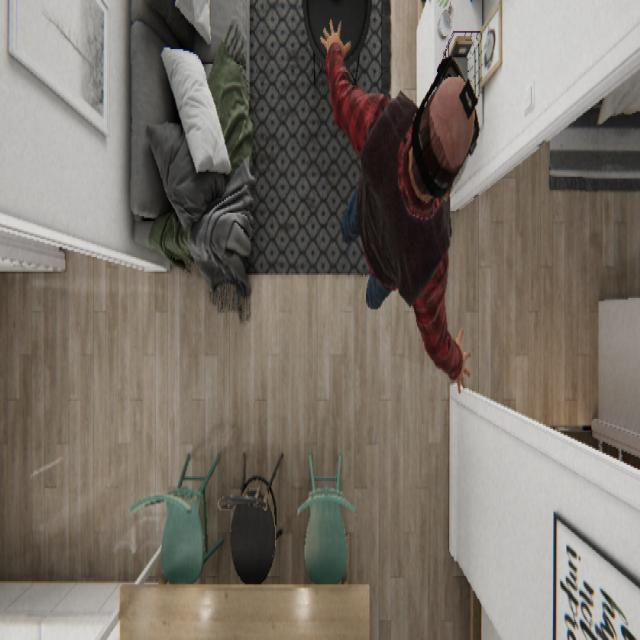Human: (318, 16, 480, 393)
UnityLogo: (458, 77, 478, 119)
